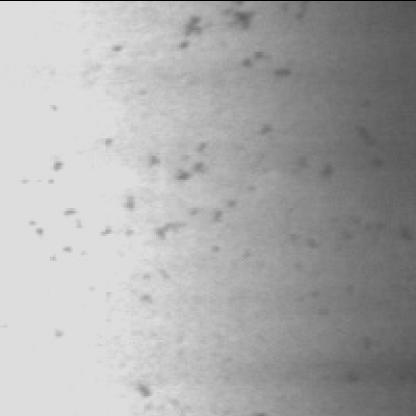pitted_surface: (13, 122, 378, 278), (156, 6, 304, 81)
